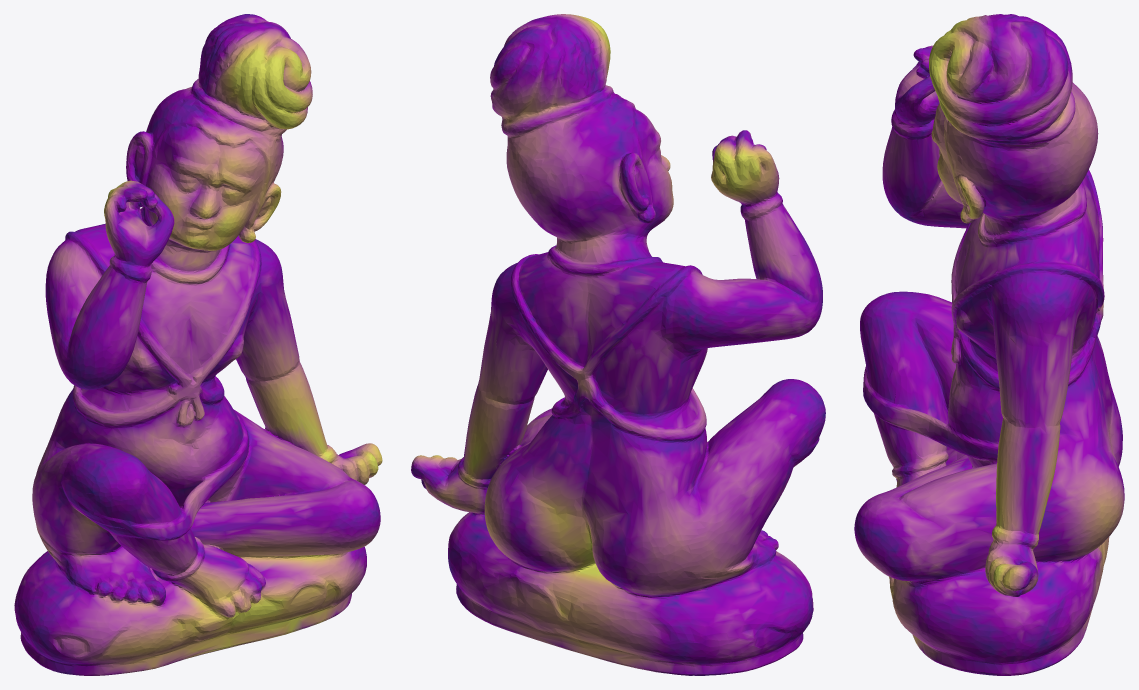
The model's file is iter_19.glb.
The picture shows the model from 3 angles, left to right: view 1: azimuth 30°, elevation 25°; view 2: azimuth 150°, elevation 25°; view 3: azimuth 270°, elevation 25°; orthographic projection. The views are drawn at different scales.
Parts seen in each view (by area): view 1: textured_mesh; view 2: textured_mesh; view 3: textured_mesh.
Part boxes in pixels (x1,y1,x2,y2): textured_mesh: (14,14,382,675); textured_mesh: (411,14,825,675); textured_mesh: (854,14,1124,675).
Bounding box in the file's own units: 1.33 × 1.99 × 0.7965.
